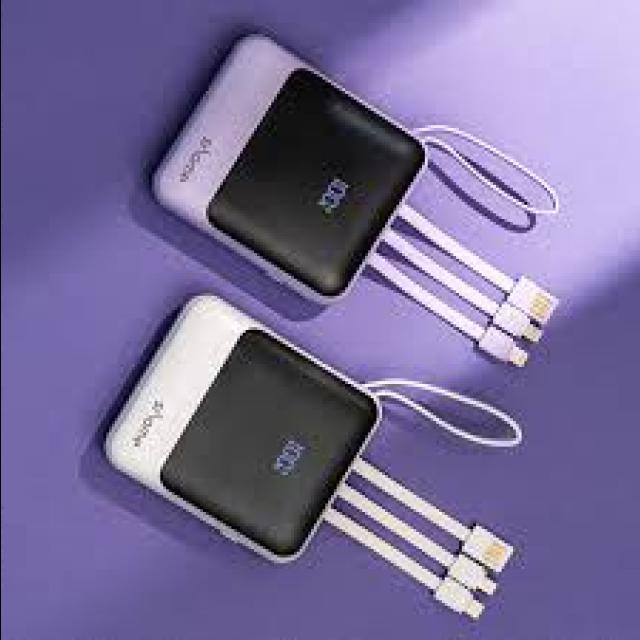portable-charger: (138, 27, 428, 305), (96, 295, 380, 563)
